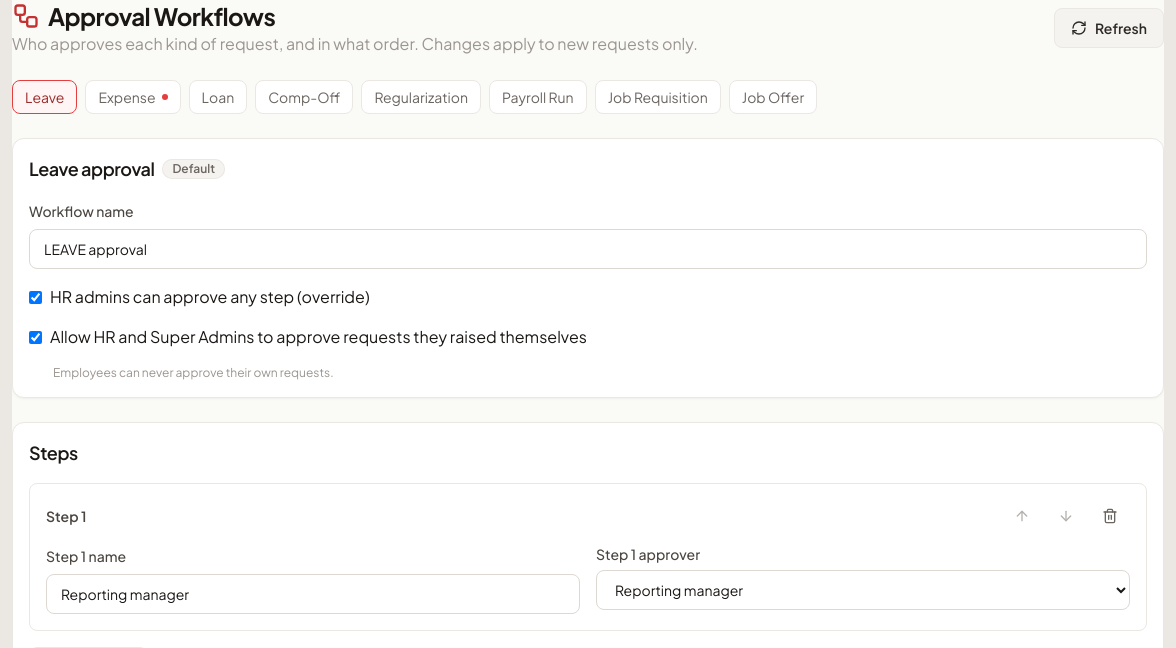
WorkflowBuilderPage › shows a custom chain with its specific user and amount condition
Expected: the field labelled "Step 1 name" is shown, [46,574,580,614]
Click the tab "Expense" at {"x": 133, "y": 97}, box [86,80,181,114]
(page scrolled)
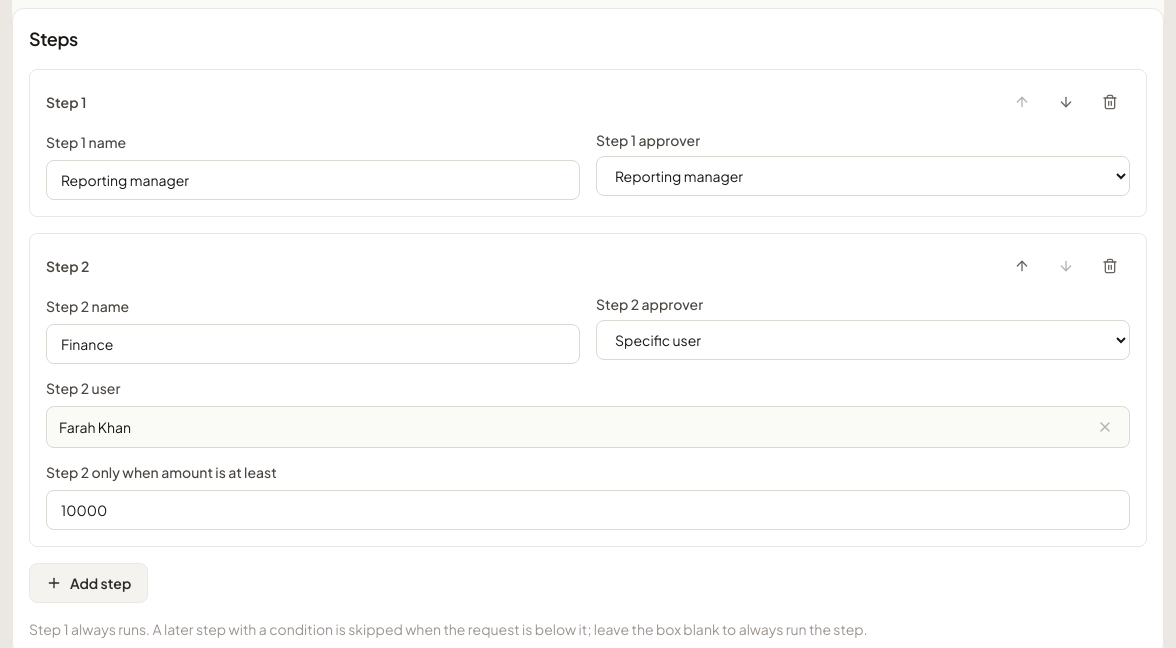
Expected: the field labelled "Step 2 name" holds "Finance", [46,324,580,364]
Expected: the text "Farah Khan" is shown, [59,417,131,437]
Expected: the number field labelled "Step 2 only when amount is at least" holds "10000", [46,490,1130,530]
